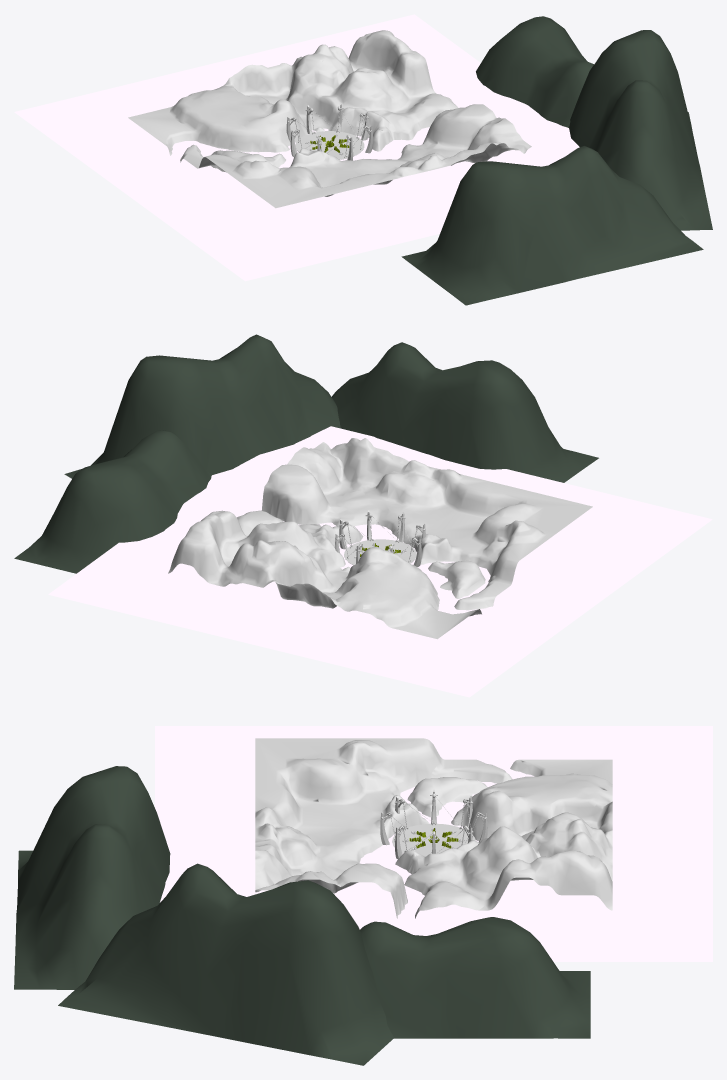
File: platform.glb
3 renders of one model, top to bottom at view 1: azimuth 30°, elevation 25°; view 2: azimuth 150°, elevation 25°; view 3: azimuth 270°, elevation 25°, orthographic. The views are drawn at different scales.
Visible parts, largest first — view 1: Ocean-noimp, Landscape-col, Plane.002, Plane.001, Plane, Platform-convcol; view 2: Ocean-noimp, Landscape-col, Plane.002, Plane.001, Plane, Platform-convcol; view 3: Ocean-noimp, Landscape-col, Plane.001, Plane.002, Plane, Platform-convcol.
Part boxes in pixels (left/top/right/bottom): Ocean-noimp: left=14, top=14, right=579, bottom=281; Landscape-col: left=128, top=30, right=531, bottom=208; Plane.002: left=401, top=146, right=703, bottom=305; Plane.001: left=569, top=30, right=712, bottom=230; Plane: left=476, top=16, right=593, bottom=127; Platform-convcol: left=295, top=131, right=364, bottom=159; Ocean-noimp: left=48, top=426, right=712, bottom=697; Landscape-col: left=168, top=438, right=592, bottom=639; Plane.002: left=332, top=342, right=598, bottom=482; Plane.001: left=64, top=334, right=340, bottom=478; Plane: left=14, top=430, right=211, bottom=573; Platform-convcol: left=344, top=539, right=416, bottom=565; Ocean-noimp: left=155, top=726, right=712, bottom=961; Landscape-col: left=255, top=738, right=612, bottom=918; Plane.001: left=58, top=863, right=393, bottom=1065; Plane.002: left=14, top=766, right=170, bottom=989; Plane: left=360, top=917, right=590, bottom=1038; Platform-convcol: left=392, top=823, right=475, bottom=856.
Size of the model in its own units: 132 by 26.45 by 125.
